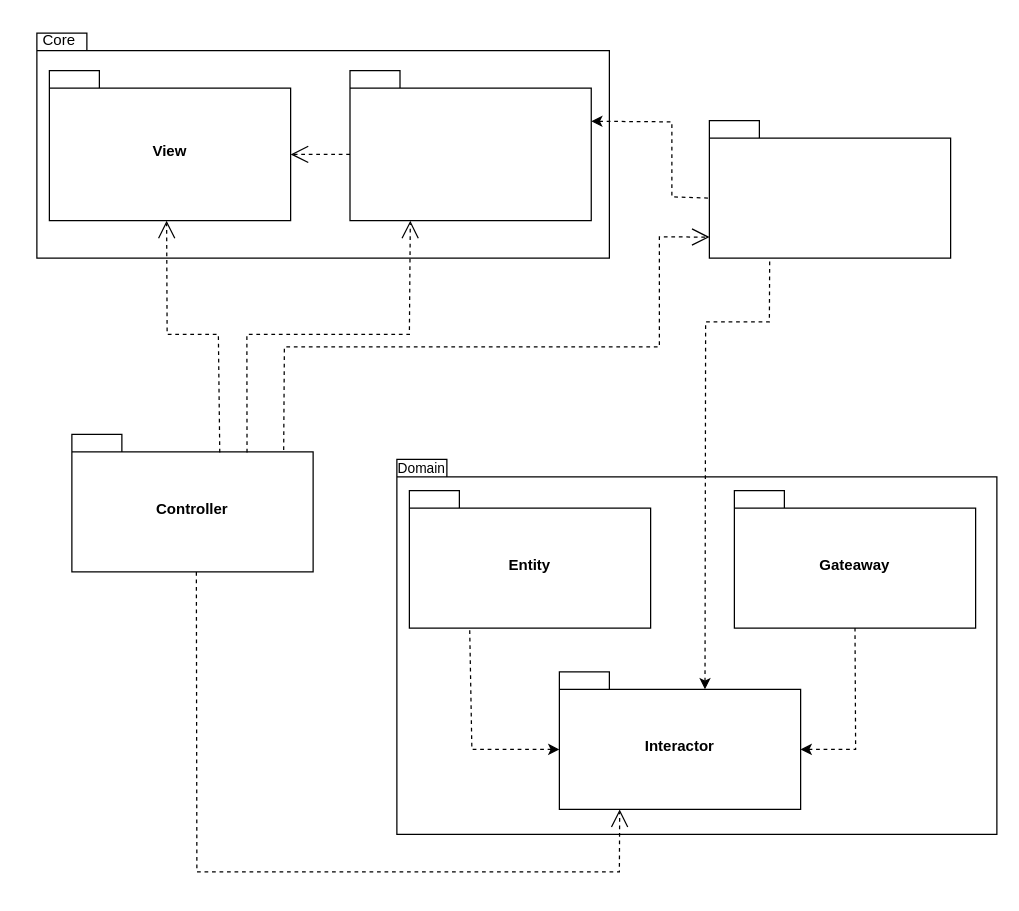
This 1019x911 diagram has some shape labels left out. The centre of each missing label's shape, as x and y in pixels:
"Data Transfer Object" belongs at pixel 829 188.
"Presenter" belongs at pixel 470 145.
